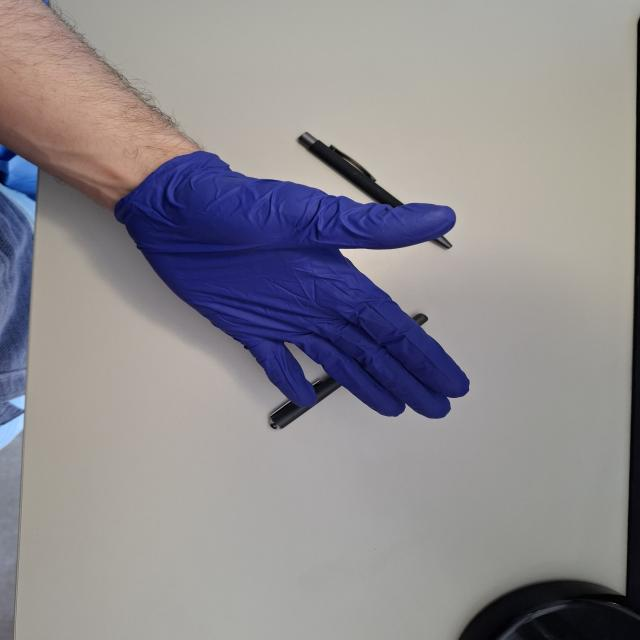glove_on: (108, 142, 481, 424)
